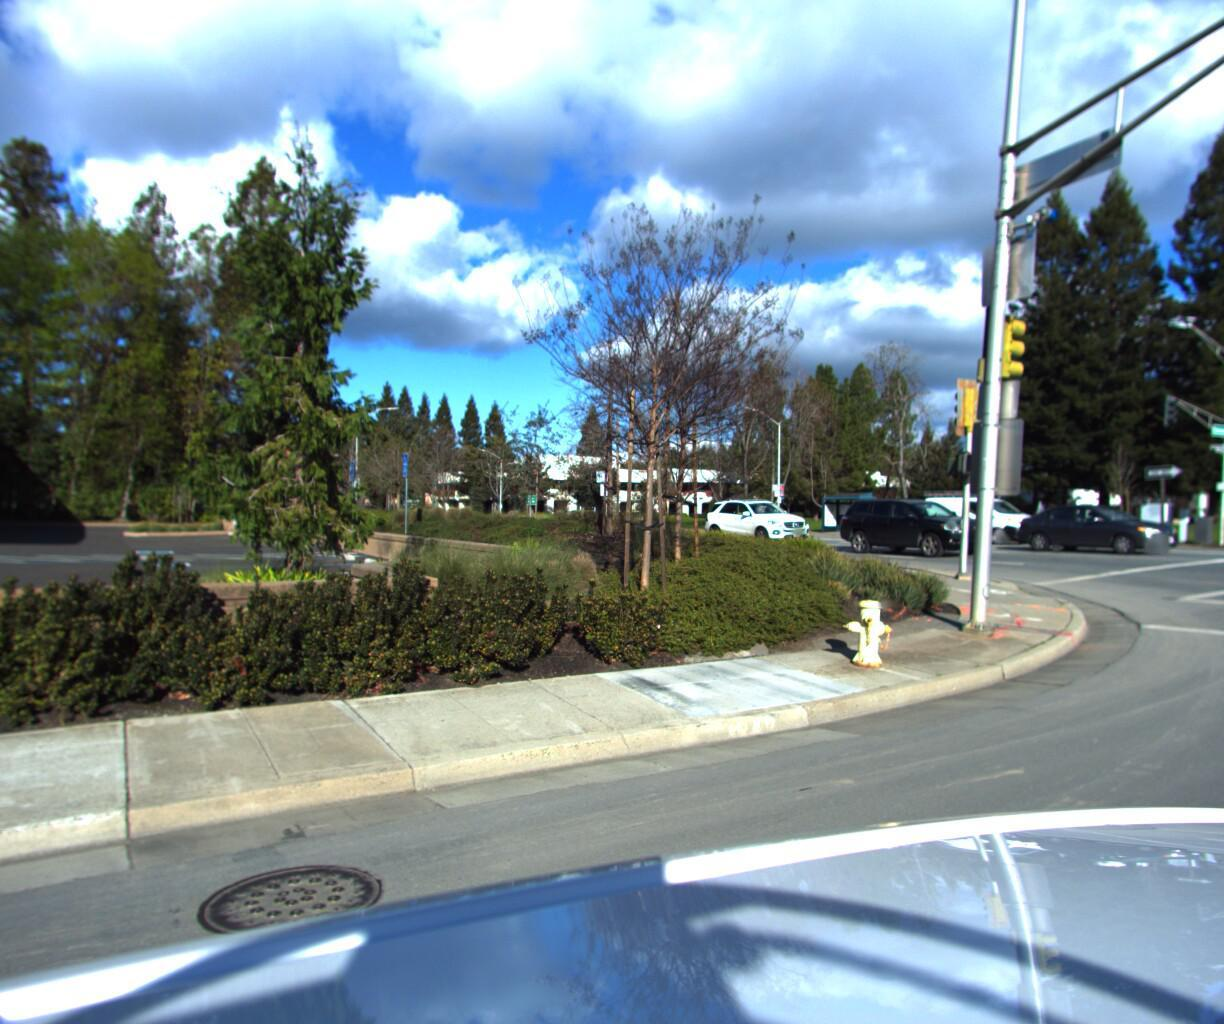car: (834, 488, 1007, 553), (1011, 494, 1194, 554), (907, 479, 1047, 540), (698, 491, 821, 546)
